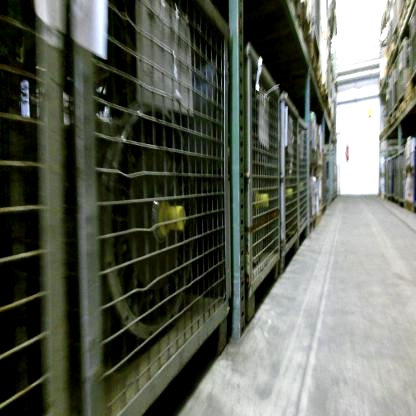pallets: (383, 195, 416, 217)
